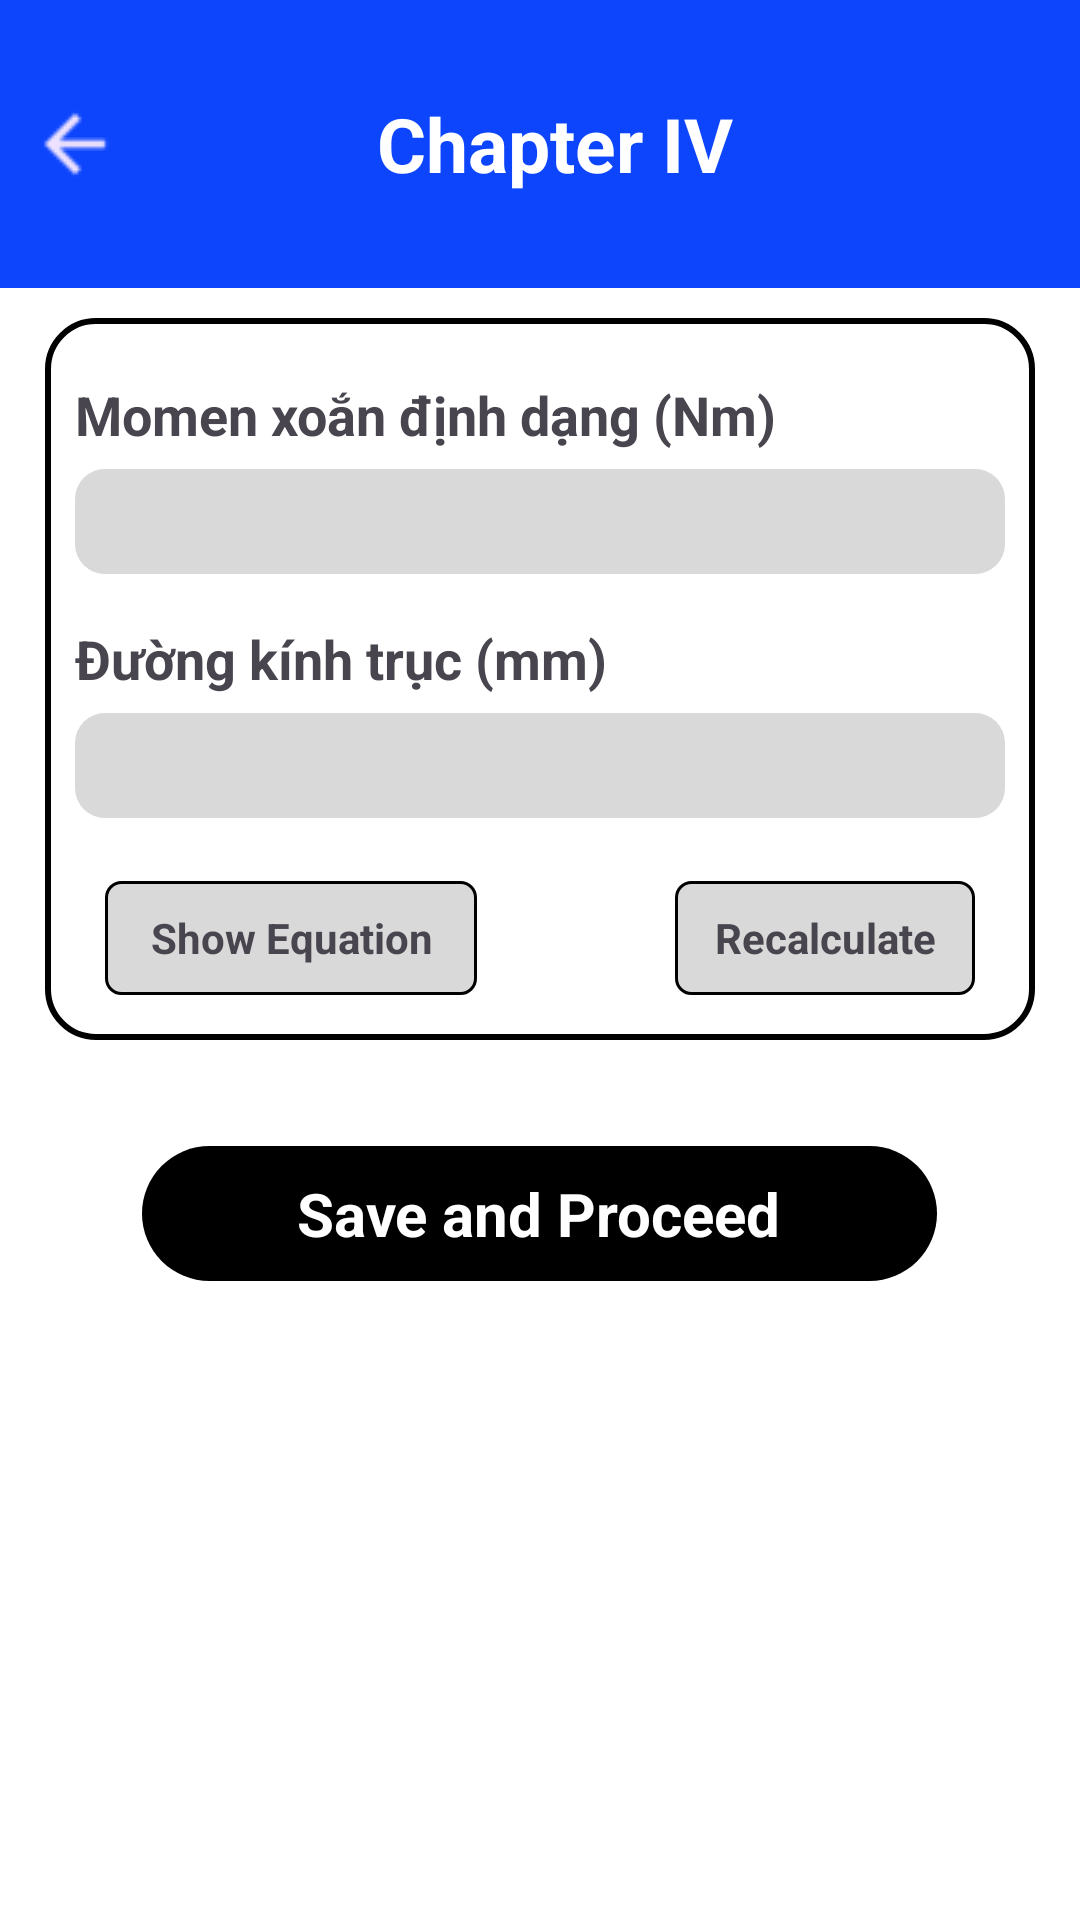

Where to tap for icons on this 1080 × 1920 app screen, as (x,y):
arrow back: (75,144)
